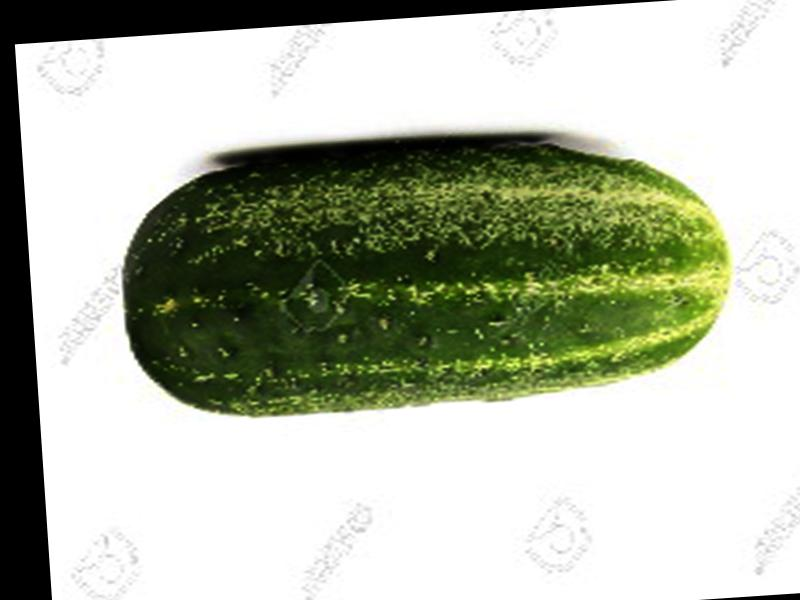Cucumber: (110, 124, 732, 425)
